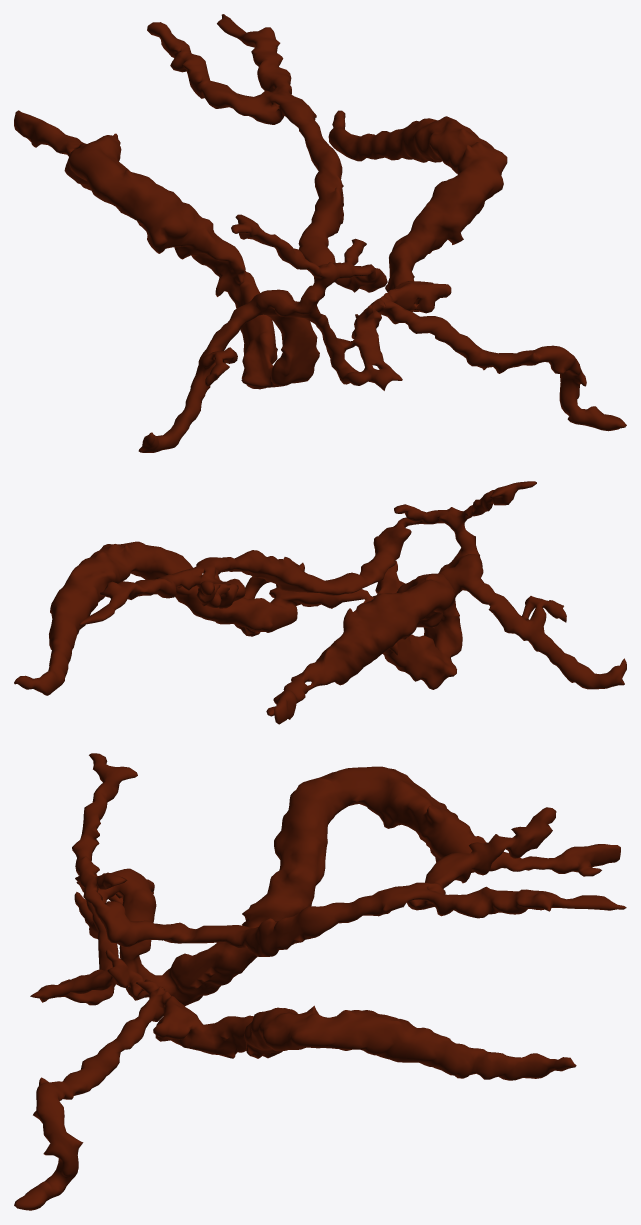
File: Arteries.obj
3 views of the same model, one above another, from view 1: azimuth 30°, elevation 25°; view 2: azimuth 150°, elevation 25°; view 3: azimuth 270°, elevation 25° (orthographic). The views are drawn at different scales.
Parts seen in each view (by area): view 1: grp1; view 2: grp1; view 3: grp1.
Part boxes in pixels (x1=…): grp1: x1=14, y1=14, x2=626, y2=452; grp1: x1=14, y1=481, x2=626, y2=724; grp1: x1=14, y1=753, x2=626, y2=1210.
Bounding box in the file's own units: 76.56 × 43.48 × 82.18.
